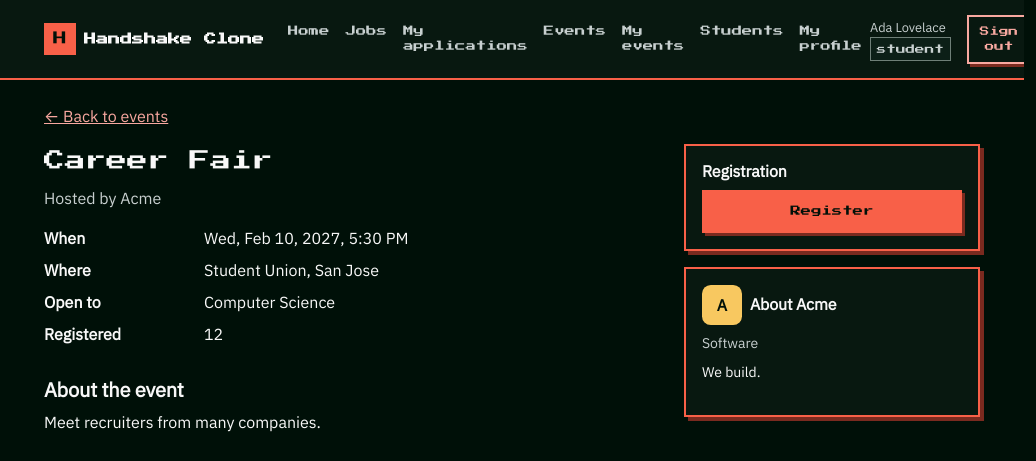
Event details and registration › registers and then shows the registered state
The image size is (1036, 461).
Click the button "Register".
click(832, 211)  # box [702,190,962,233]
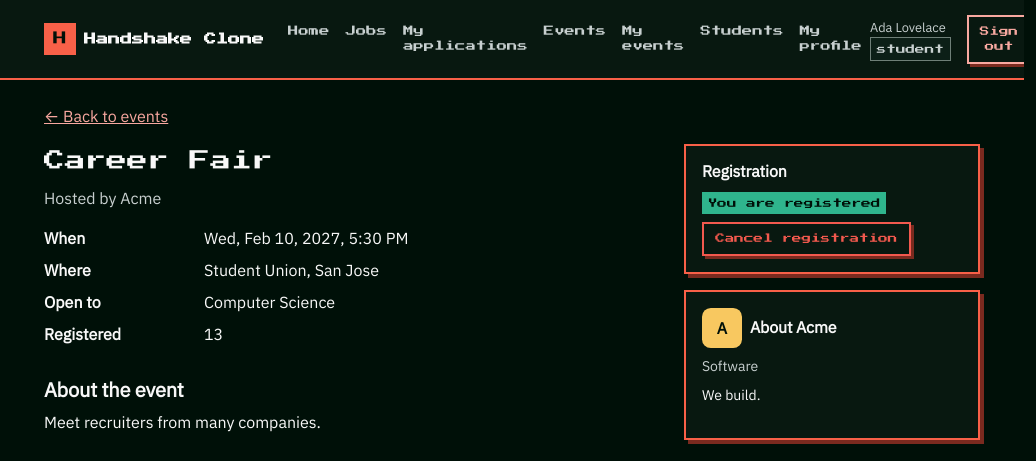
Expected: the text "You are registered" is shown, [702,192,886,214]
Expected: the button "Cancel registration" is shown, [702,222,911,256]
